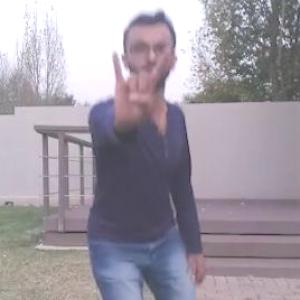takeoff-hand: (102, 40, 171, 126)
